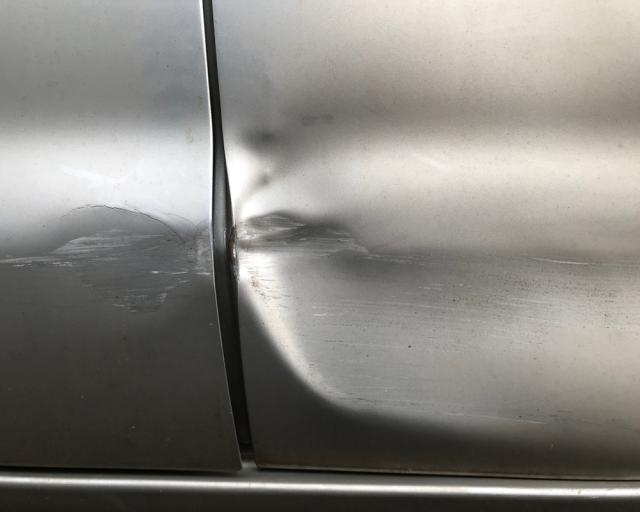dent: (233, 63, 640, 429)
scratch: (0, 218, 215, 312)
